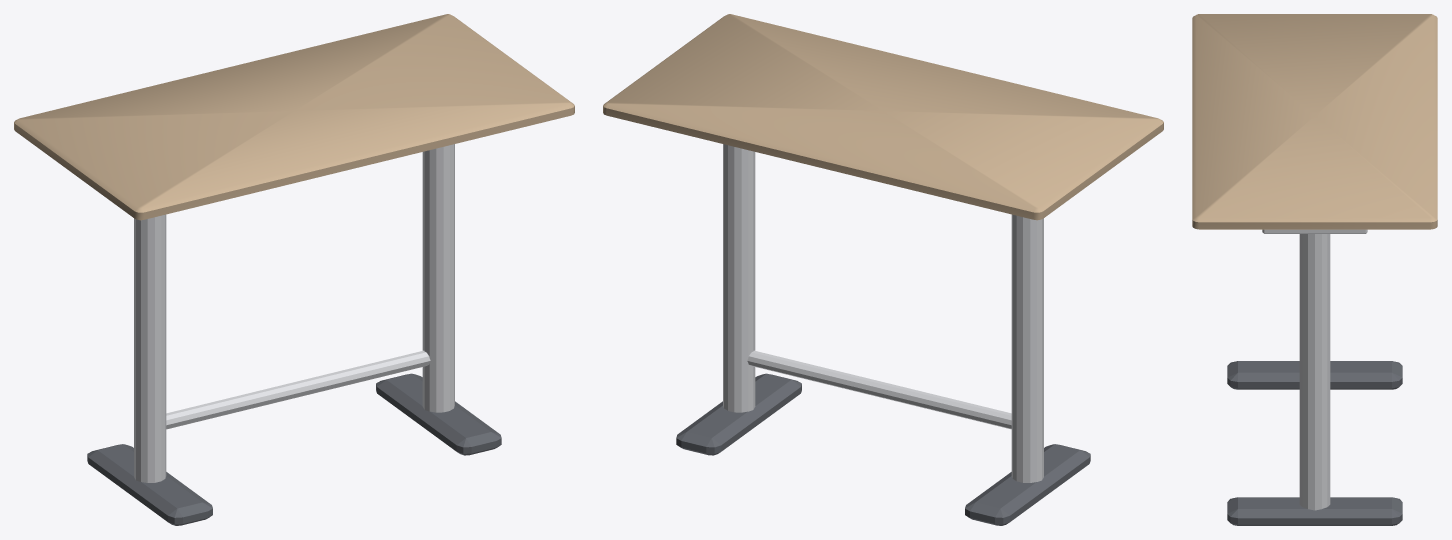
Rendered from office-lobby-and-facilities-breakout-high-table-7bfeac6b__26242.glb.
3 views of the same model, side by side, from view 1: azimuth 30°, elevation 25°; view 2: azimuth 150°, elevation 25°; view 3: azimuth 270°, elevation 25° (orthographic). The views are drawn at different scales.
Parts seen in each view (by area): view 1: breakout-high-table; view 2: breakout-high-table; view 3: breakout-high-table.
Part boxes in pixels (x1,y1,x2,y2): breakout-high-table: (14,14,574,525); breakout-high-table: (603,14,1163,525); breakout-high-table: (1192,14,1437,525).
Size of the model in its own units: 1.4 by 1.05 by 0.7001.
